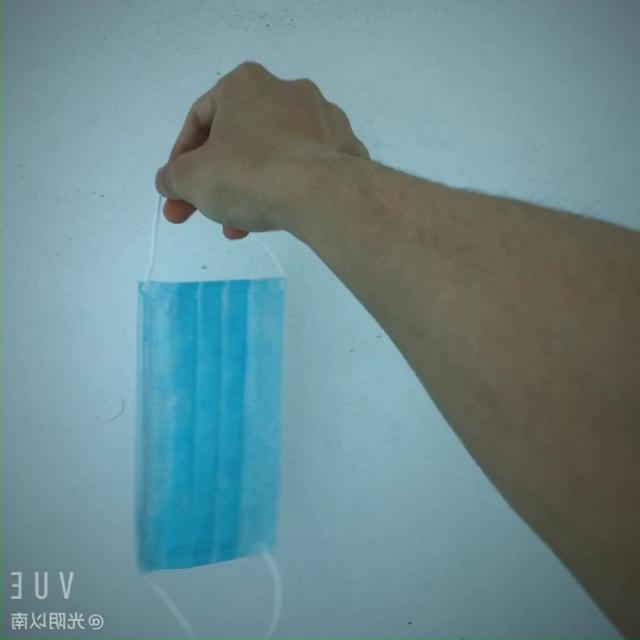face mask: (130, 264, 304, 576)
